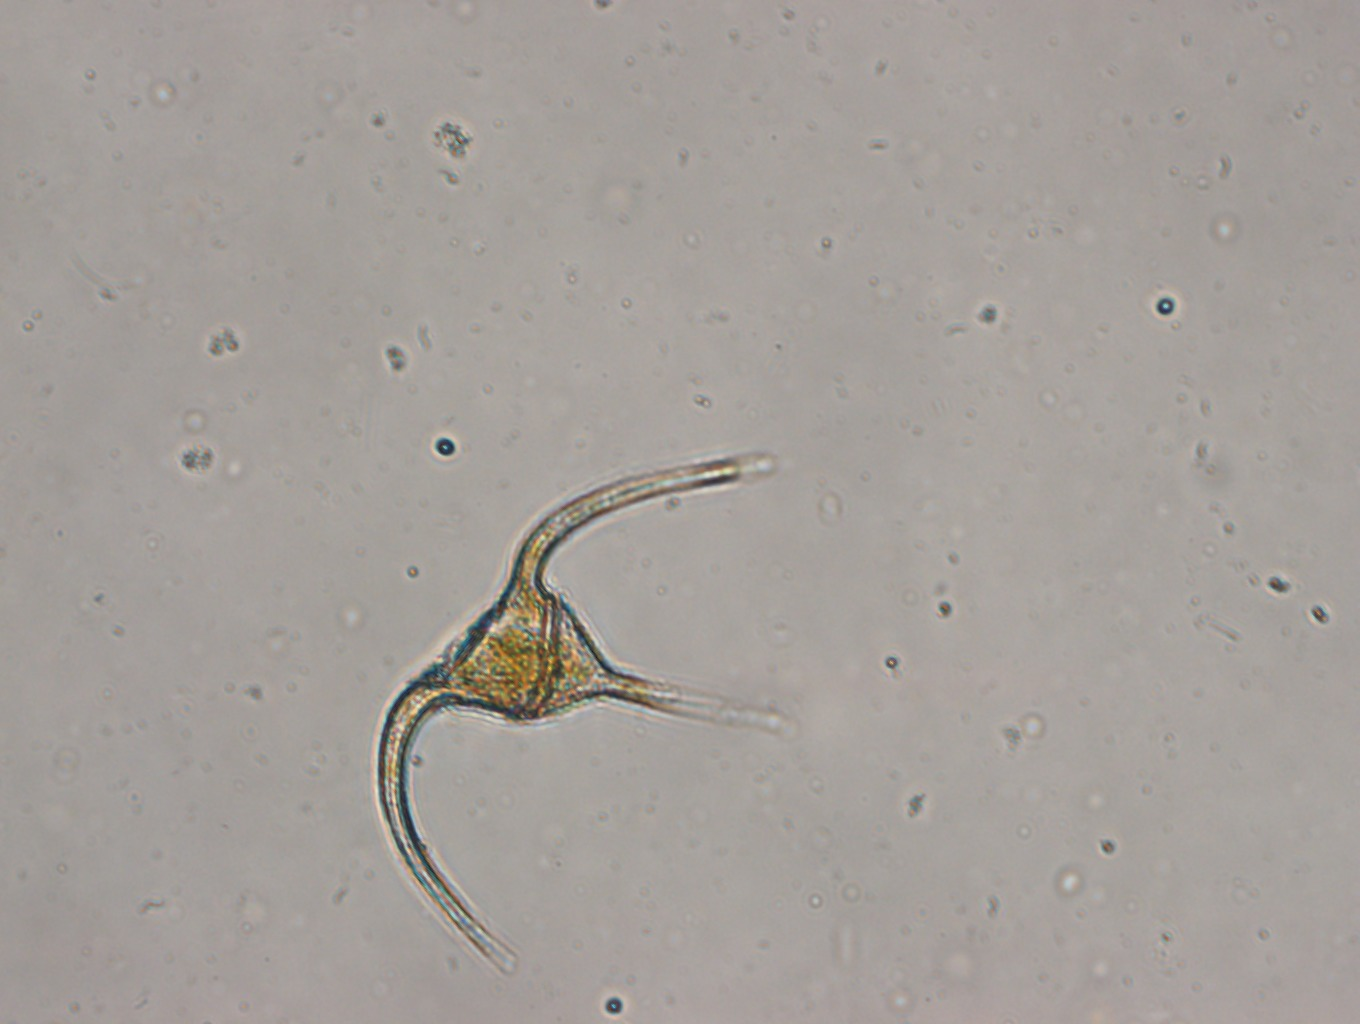ceratium trichoceros: (364, 433, 779, 980)
